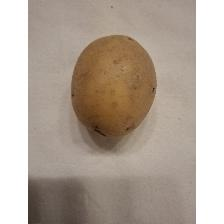Kartoffel: (69, 32, 158, 142)
